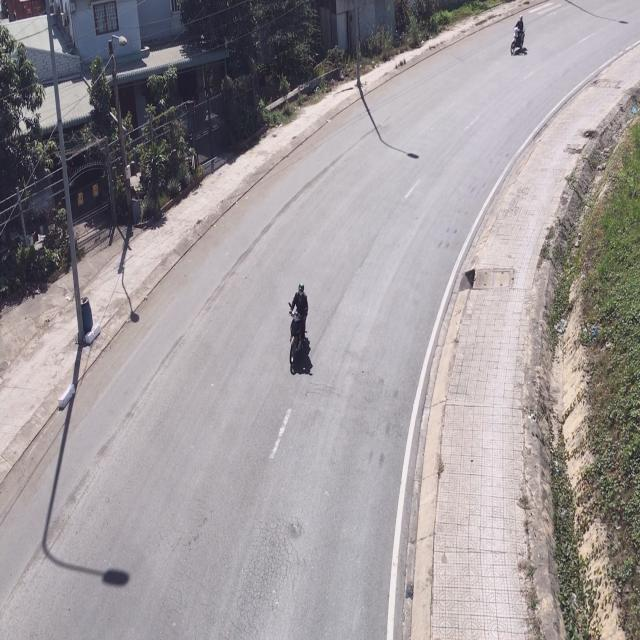motorbike: (286, 283, 312, 378), (510, 14, 528, 59)
